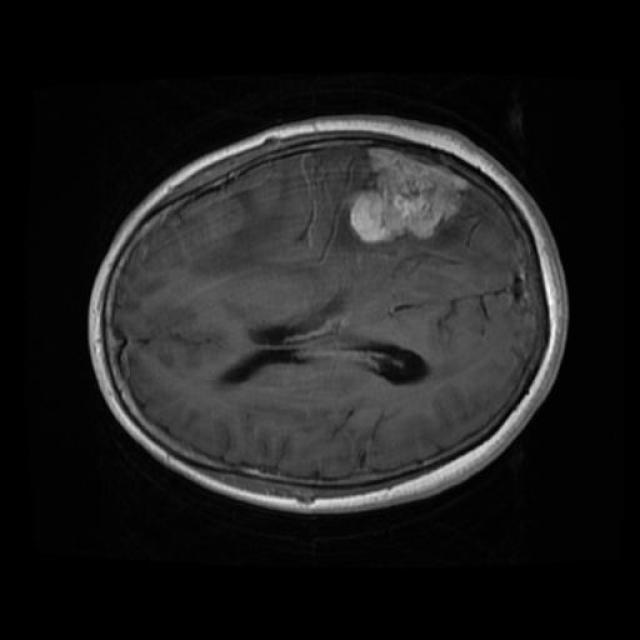Meningioma: (350, 150, 468, 241)
